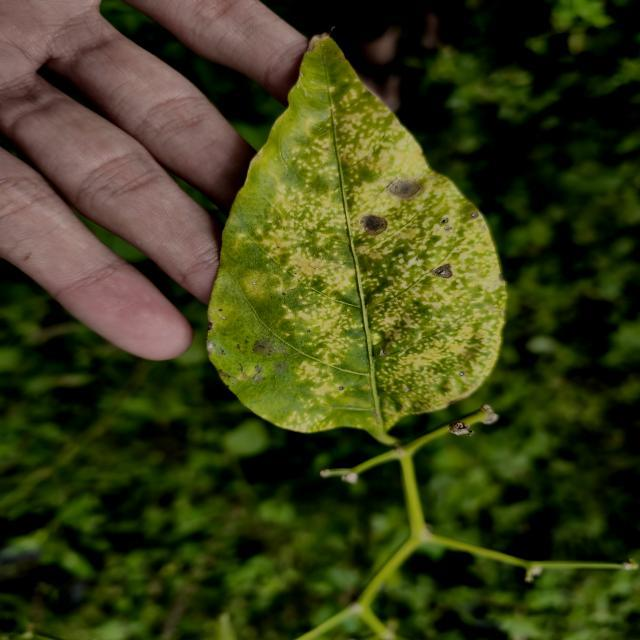Virus Kuning: (205, 27, 508, 445)
